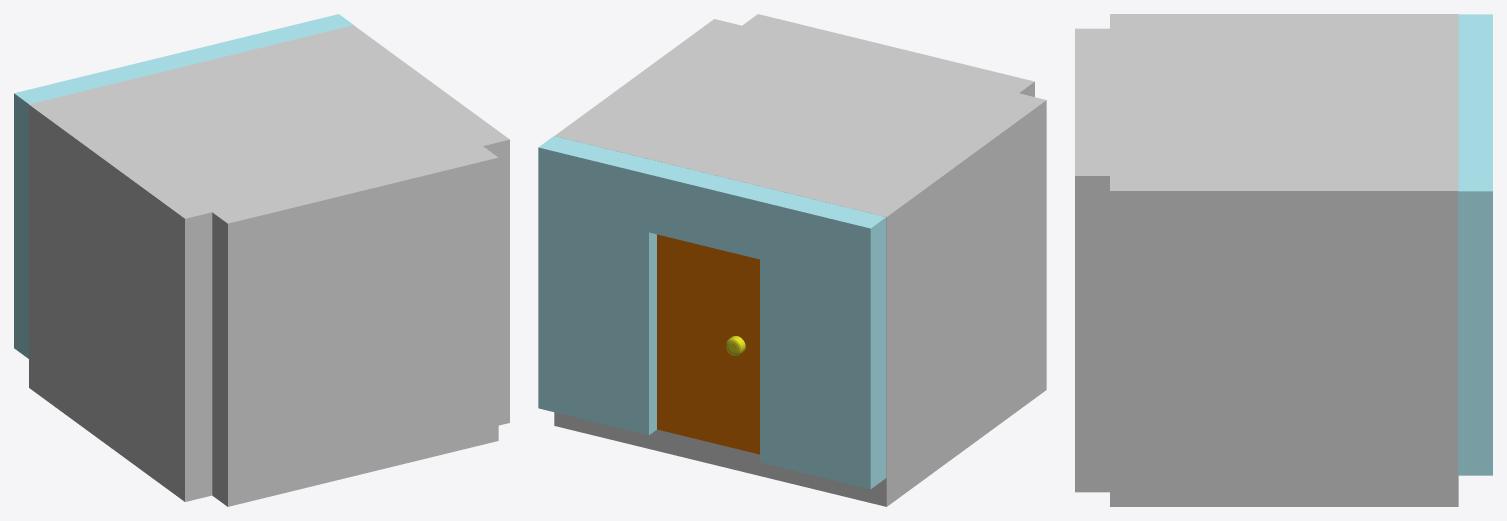
The model's file is Bathroom2.glb.
3 views of the same model, side by side, from view 1: azimuth 30°, elevation 25°; view 2: azimuth 150°, elevation 25°; view 3: azimuth 270°, elevation 25° (orthographic). The views are drawn at different scales.
Parts seen in each view (by area): view 1: Cube.004, Cube.003, Cube.001, Cube.005, Cube.002; view 2: Cube.005, Cube.003, Cube.001, Door, Cube.002, Cube, Cube.004; view 3: Cube.002, Cube.001, Cube.004, Cube.005, Cube.003.
Boxes of the visible parts, x1,y1,x2,y2 form: Cube.004: [212, 146, 498, 506]; Cube.003: [29, 98, 212, 501]; Cube.001: [56, 32, 482, 212]; Cube.005: [14, 14, 353, 358]; Cube.002: [327, 25, 509, 425]; Cube.005: [538, 136, 886, 489]; Cube.003: [859, 93, 1046, 506]; Cube.001: [582, 25, 1018, 210]; Door: [657, 234, 759, 454]; Cube.002: [554, 19, 741, 432]; Cube: [582, 419, 858, 499]; Cube.004: [742, 14, 1034, 96]; Cube.002: [1110, 176, 1458, 506]; Cube.001: [1110, 28, 1458, 175]; Cube.004: [1075, 28, 1109, 492]; Cube.005: [1458, 14, 1492, 475]; Cube.003: [1110, 14, 1458, 28].
Size of the model in its own units: 12.02 by 10 by 11.98.
